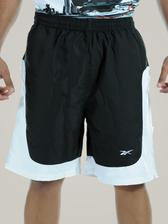clothoes: (4, 11, 162, 186)
